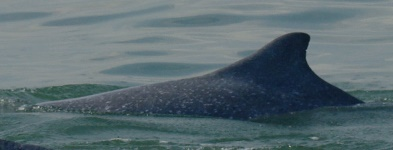fin: (28, 29, 373, 122)
